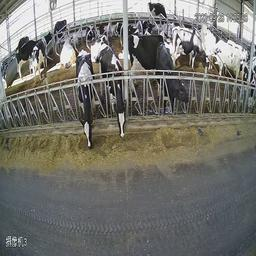cow: (100, 49, 130, 142), (154, 42, 189, 108), (75, 47, 93, 150), (171, 26, 205, 67), (32, 29, 53, 85), (208, 44, 241, 77), (60, 29, 79, 68), (15, 38, 32, 79), (148, 1, 170, 24), (53, 14, 66, 48), (85, 20, 97, 42), (111, 19, 122, 39)
